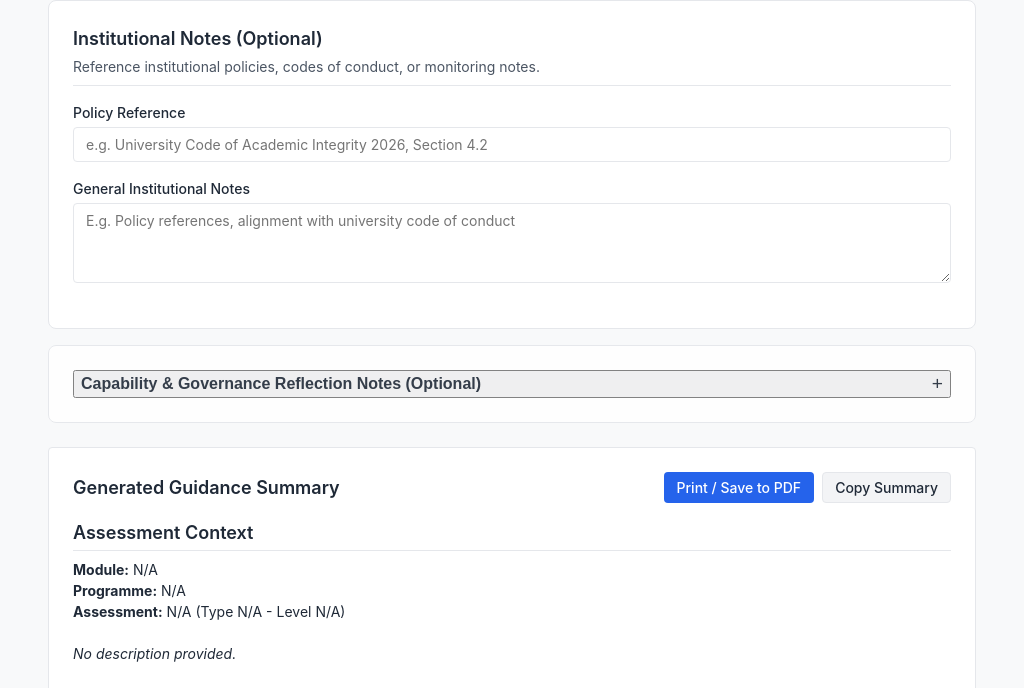
Test case: AI Integrity Domain Correctness Suite › preserves governance reflection notes across accordion expand/collapse cycles
(page scrolled)
// Expand accordion
Click the button "Capability & Governance Reflection Notes (Optional) +": click(281, 384) [73,370,951,398]
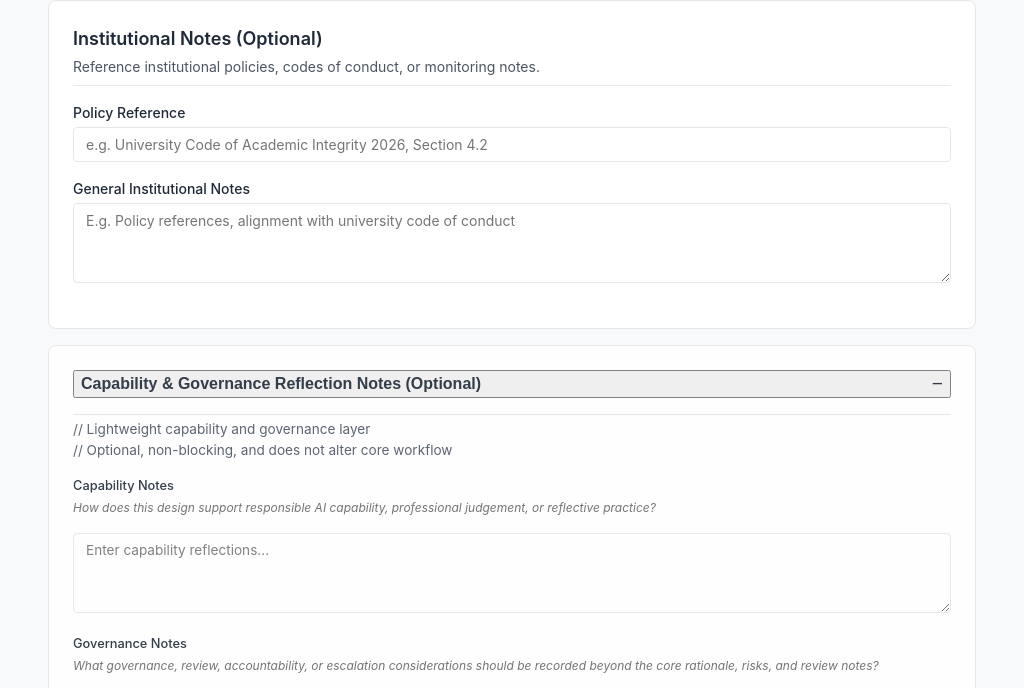
In the text box with placeholder "Enter capability reflections...": (512, 573) [73,533,951,613], type "Reflective practice embedded in rubric"
(page scrolled)
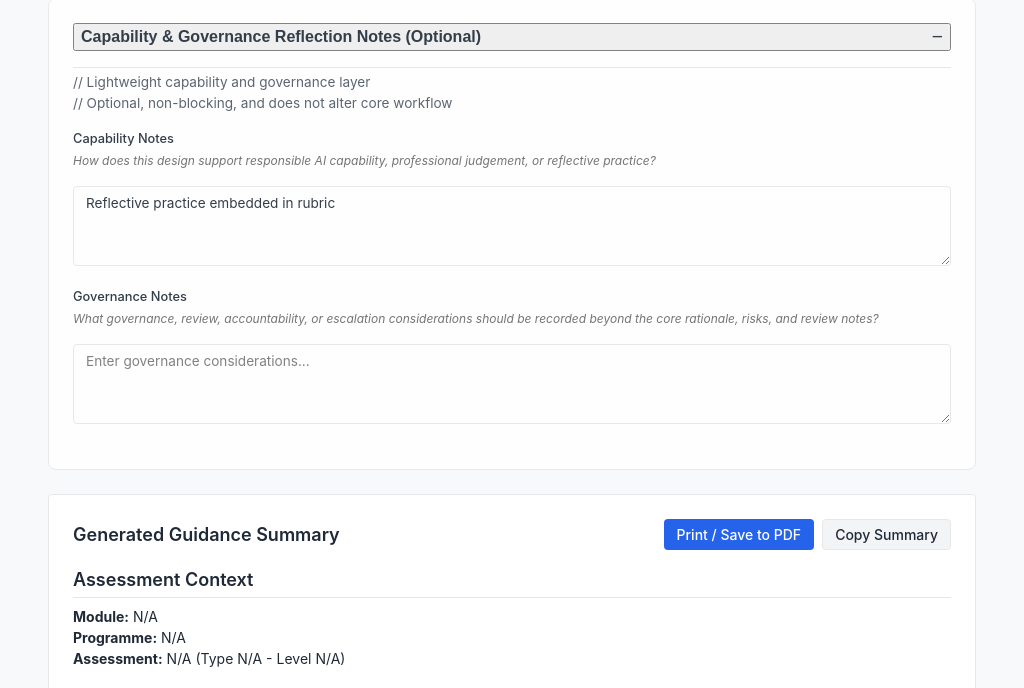
In the text box with placeholder "Enter governance considerations...": (512, 384) [73,344,951,424], type "Audited by Department Quality Lead"
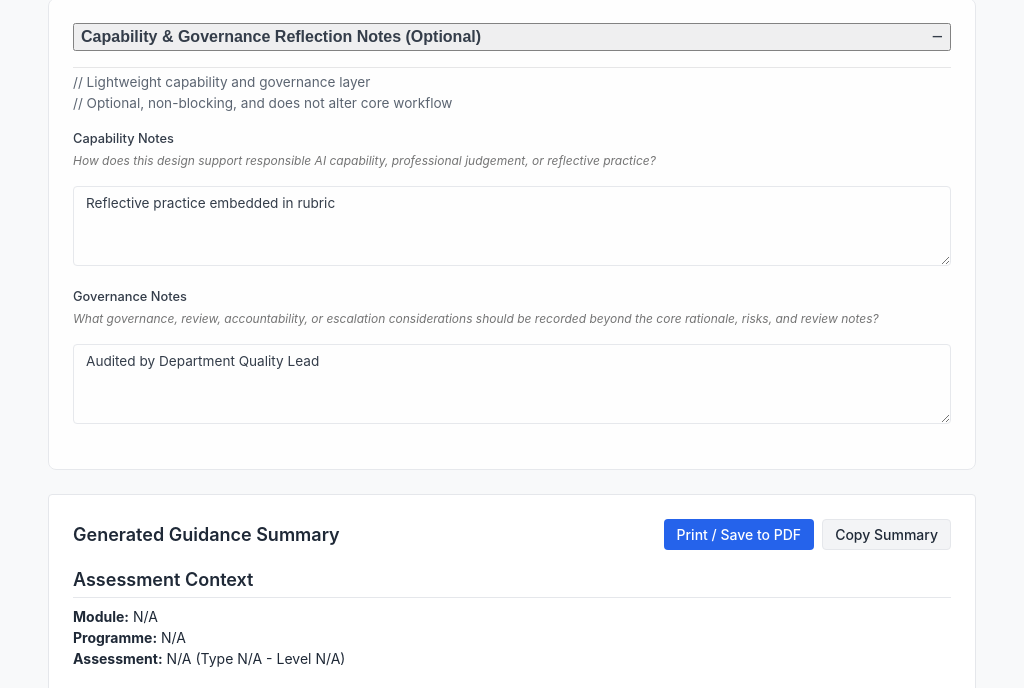
// Collapse accordion
Click the button "Capability & Governance Reflection Notes (Optional) −": click(281, 37) [73,23,951,51]
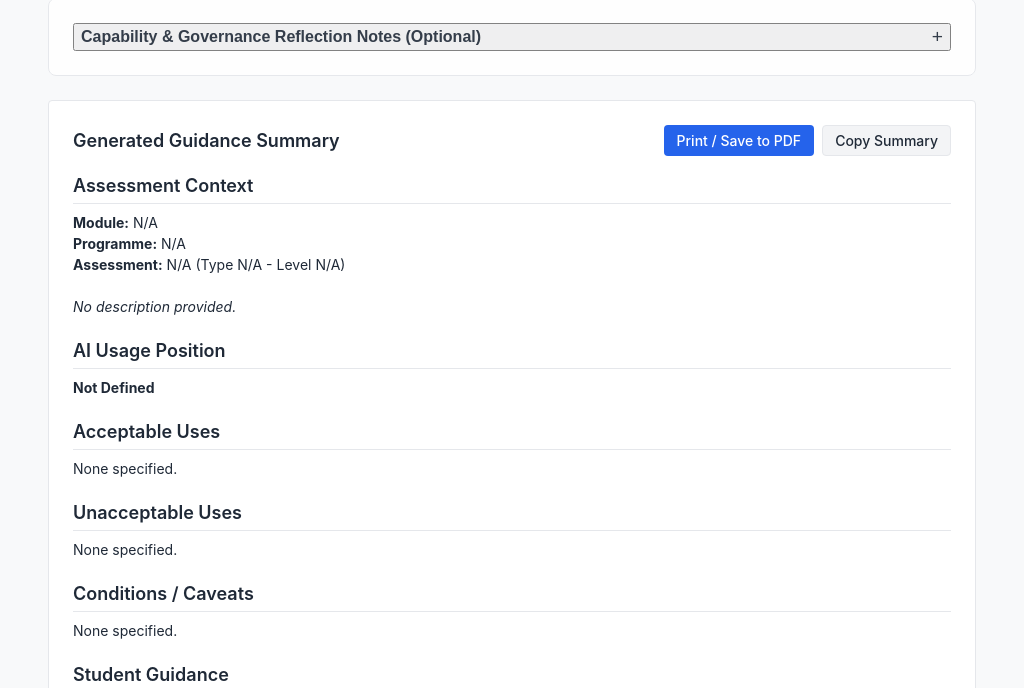
Expected: the field with placeholder "Enter capability reflections..." is not shown
// Re-expand accordion and verify field values are restored
Click the button "Capability & Governance Reflection Notes (Optional) +": click(281, 37) [73,23,951,51]
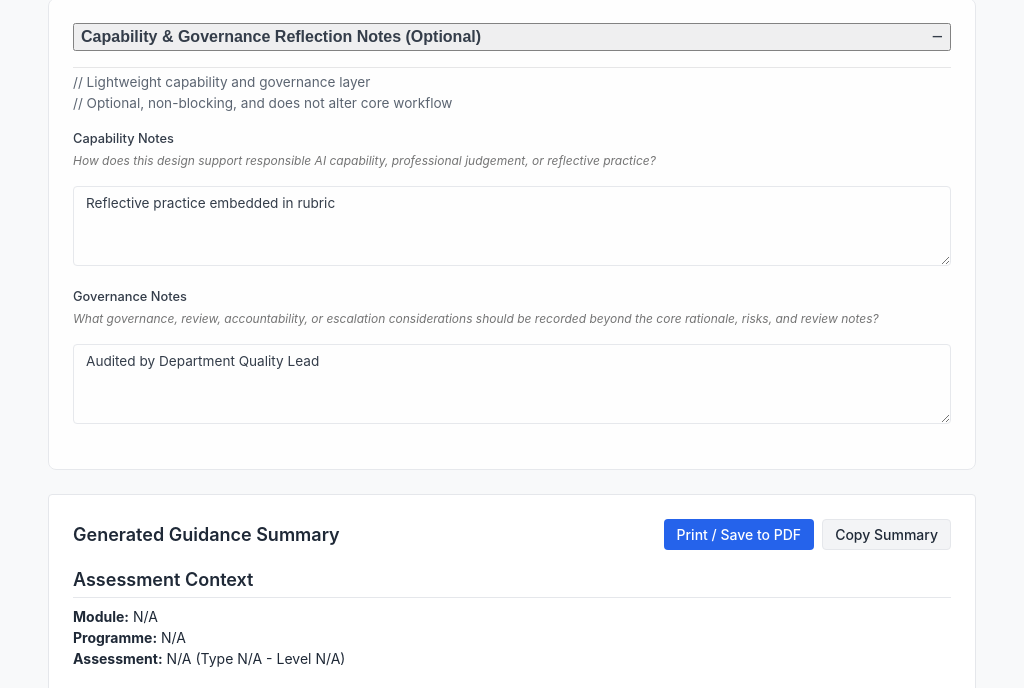
Now the text box showing "Reflective practice embedded in rubric" is shown, box [73,186,951,266]
Now the text box showing "Audited by Department Quality Lead" is shown, box [73,344,951,424]
